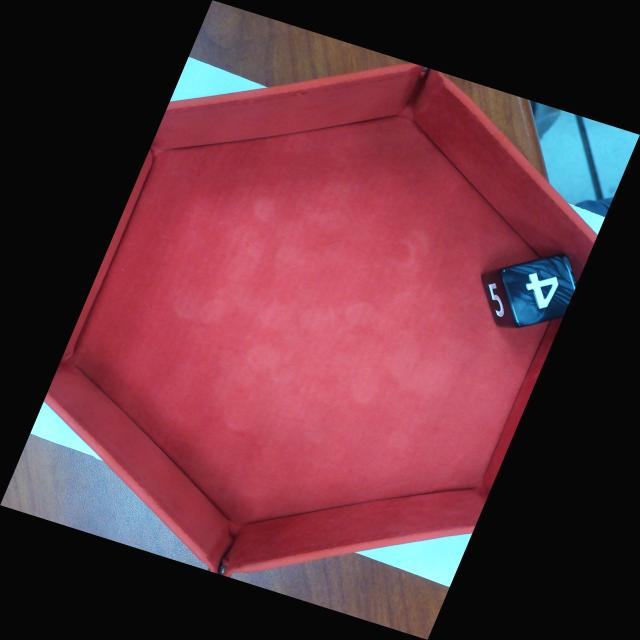dice: (509, 258, 574, 323)
